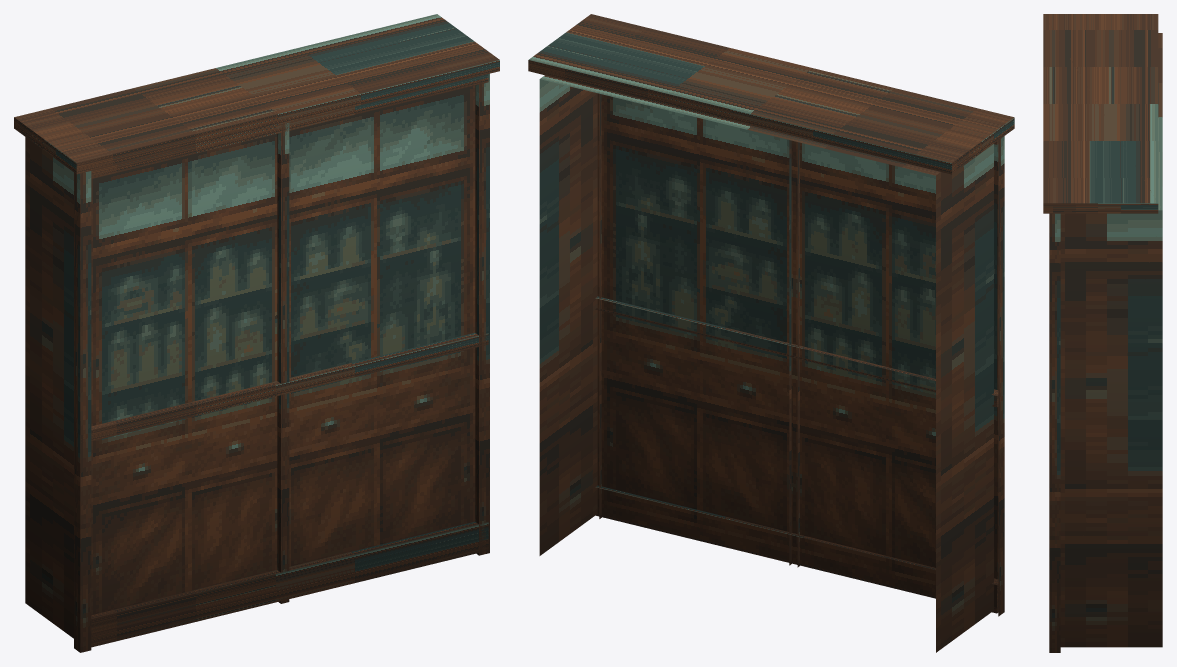
Rendered from prop_specimen_shelf-2.glb.
The picture shows the model from 3 angles, left to right: view 1: azimuth 30°, elevation 25°; view 2: azimuth 150°, elevation 25°; view 3: azimuth 270°, elevation 25°; orthographic projection. The views are drawn at different scales.
Parts seen in each view (by area): view 1: prop_specimen_shelf-2; view 2: prop_specimen_shelf-2; view 3: prop_specimen_shelf-2.
Boxes of the visible parts, x1,y1,x2,y2 form: prop_specimen_shelf-2: (14, 14, 499, 652); prop_specimen_shelf-2: (528, 14, 1014, 652); prop_specimen_shelf-2: (1043, 14, 1162, 652).
Bounding box in the file's own units: 1.56 × 1.74 × 0.415.
1 material, 1 textured.
